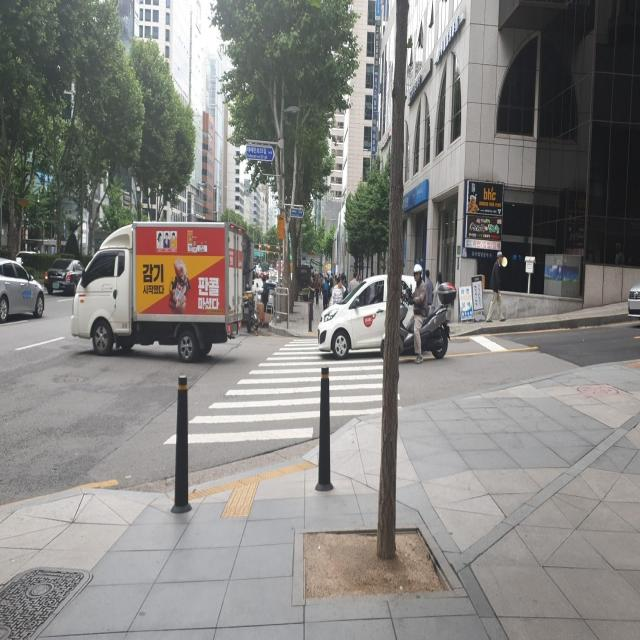횡단보도: (160, 336, 403, 443)
